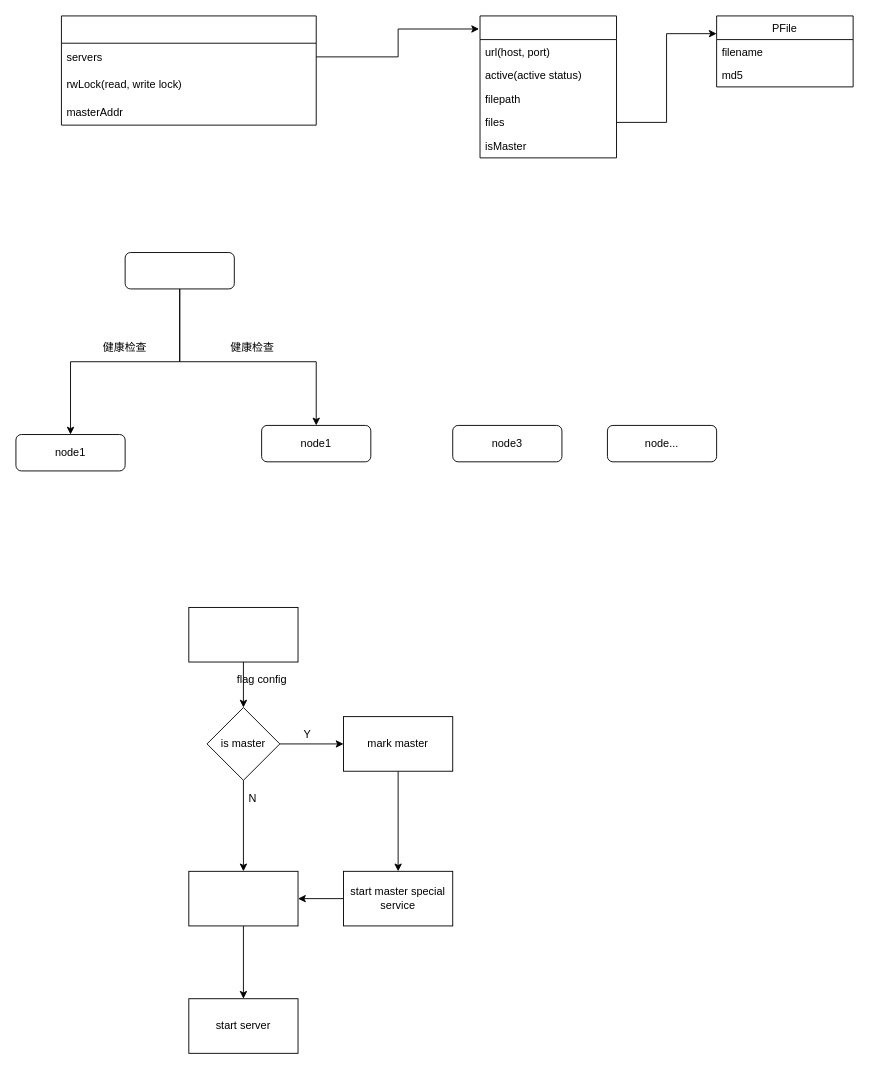
The diagram is 869 pixels wide and 1069 high, and some of its shapes have lost their labels. Each missing label, with the box of its shape:
master: (124, 252, 234, 289)
PNFS: (61, 15, 316, 125)
PServer: (479, 15, 617, 158)
read files from path: (188, 870, 298, 926)
user: (188, 607, 298, 662)
